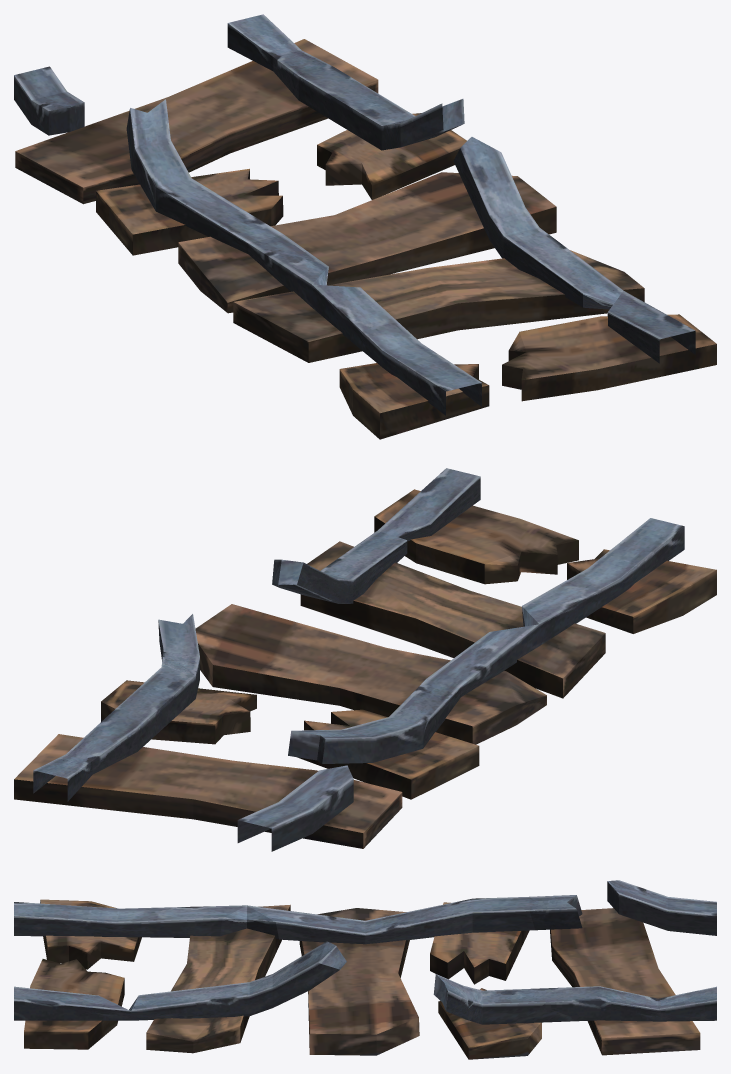
File: mine_track_broken.fbx
3 views of the same model, one above another, from view 1: azimuth 30°, elevation 25°; view 2: azimuth 150°, elevation 25°; view 3: azimuth 270°, elevation 25° (orthographic). The views are drawn at different scales.
Parts seen in each view (by area): view 1: obj0.165; view 2: obj0.165; view 3: obj0.165.
Part boxes in pixels (x1=…): obj0.165: x1=14, y1=14, x2=716, y2=439; obj0.165: x1=14, y1=468, x2=716, y2=851; obj0.165: x1=14, y1=880, x2=716, y2=1059.
Bounding box in the file's own units: 1.9 × 0.5274 × 4.
